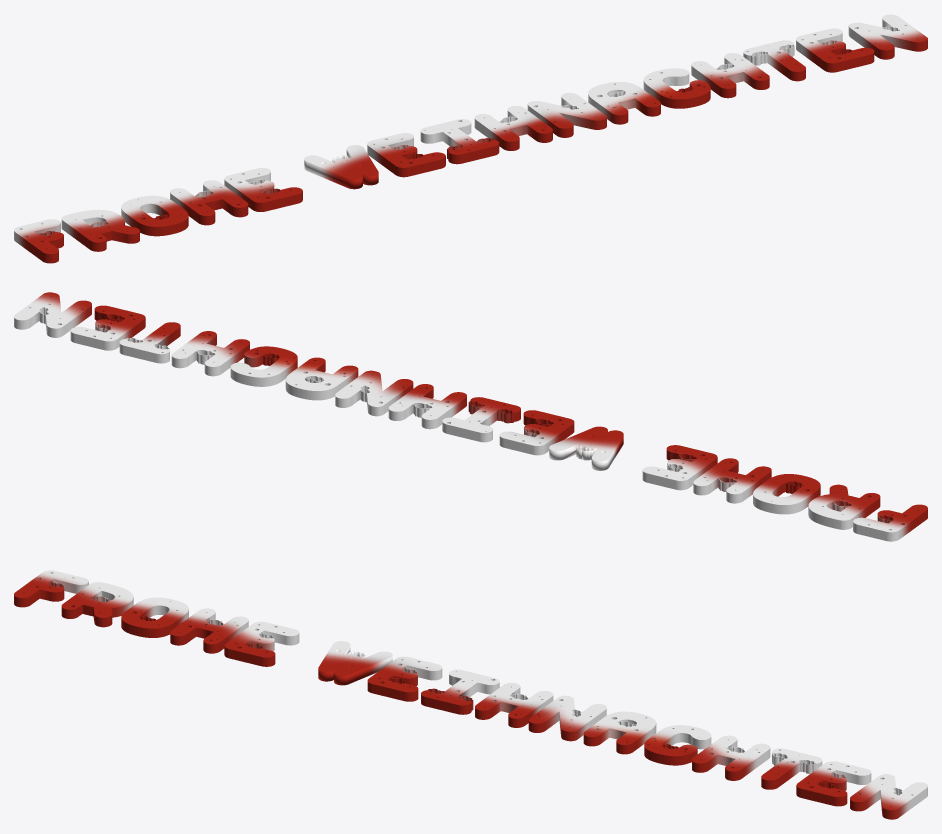
3 views of the same model, one above another, from view 1: azimuth 30°, elevation 25°; view 2: azimuth 150°, elevation 25°; view 3: azimuth 330°, elevation 25° (orthographic).
Visible parts, largest first — view 1: Text.001; view 2: Text.001; view 3: Text.001.
Part boxes in pixels (<box>): Text.001: <box>14,14,927,263</box>; Text.001: <box>14,292,927,541</box>; Text.001: <box>14,570,927,819</box>.
Bounding box in the file's own units: 7.95 × 0.08 × 0.5744.
1 material, 1 textured.
